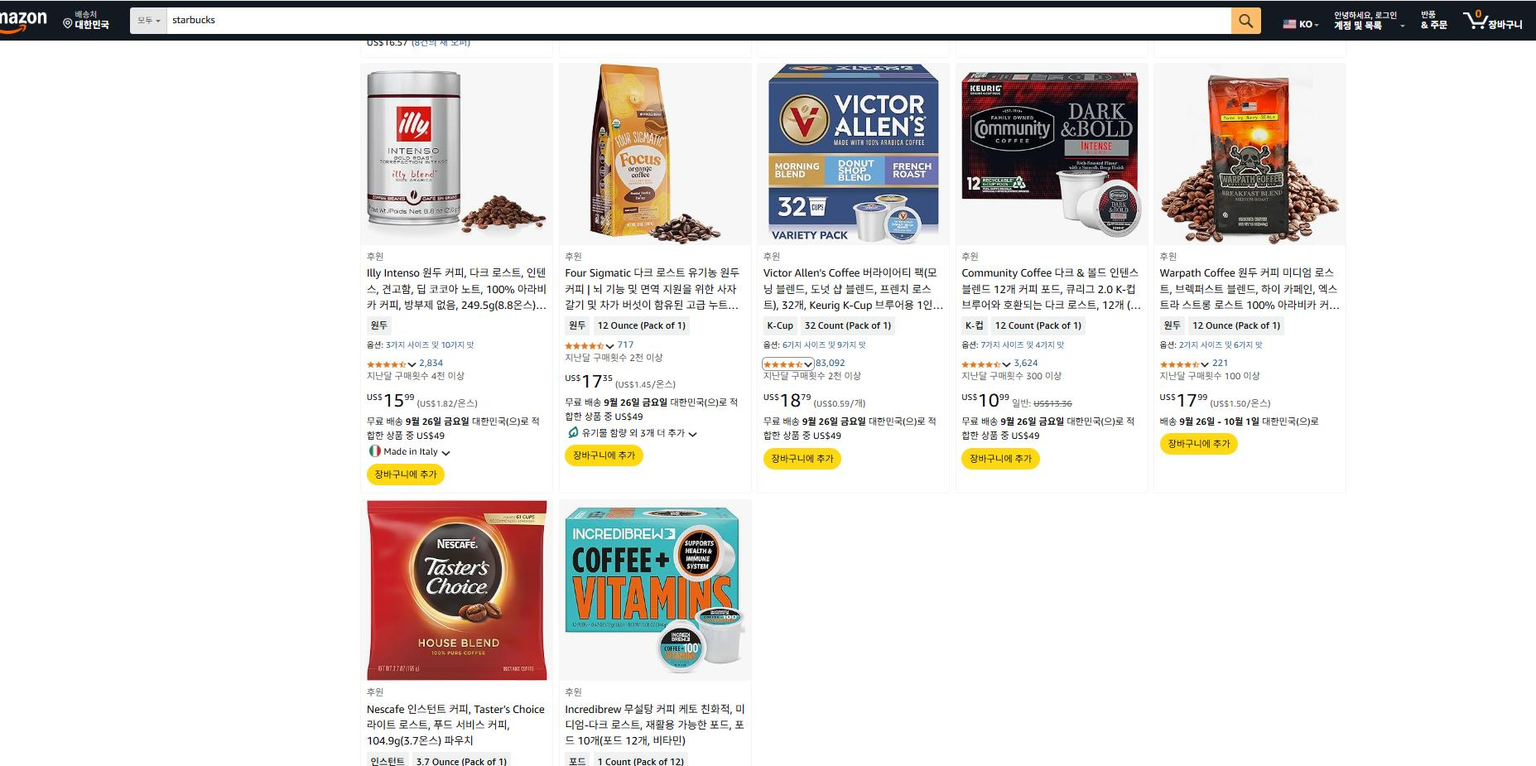button: (1161, 429, 1234, 462), (1459, 1, 1531, 33), (566, 444, 643, 470), (964, 448, 1038, 470), (374, 460, 439, 485), (1415, 3, 1458, 40), (764, 446, 837, 467), (781, 338, 869, 355), (981, 338, 1075, 351), (1181, 338, 1269, 351), (1205, 357, 1233, 373), (1011, 359, 1042, 371), (820, 359, 850, 371), (618, 340, 640, 351), (422, 358, 443, 369)
checkbox: (564, 424, 700, 445), (1331, 9, 1410, 42), (367, 444, 446, 459), (1279, 12, 1327, 36), (366, 357, 418, 374), (1159, 357, 1212, 370), (964, 360, 1010, 372), (562, 341, 612, 349)
input_field: (122, 5, 1260, 38)
